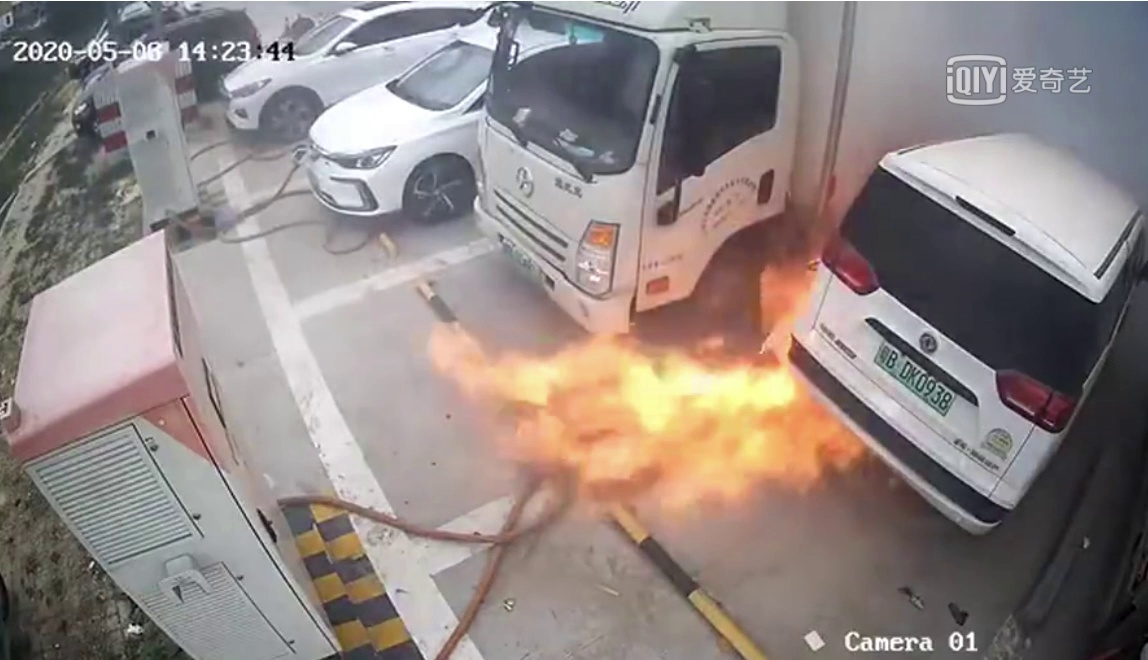fire: (428, 301, 839, 505)
